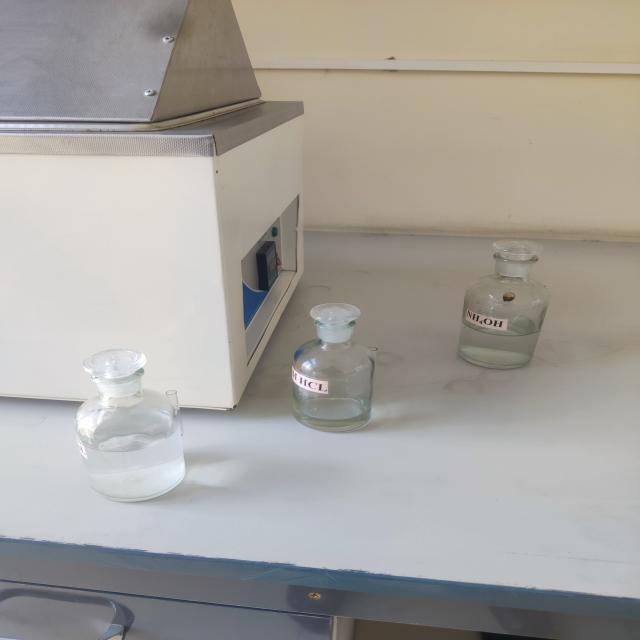Reagent_Bottle: (43, 325, 222, 527), (261, 264, 415, 456), (436, 197, 572, 395)
